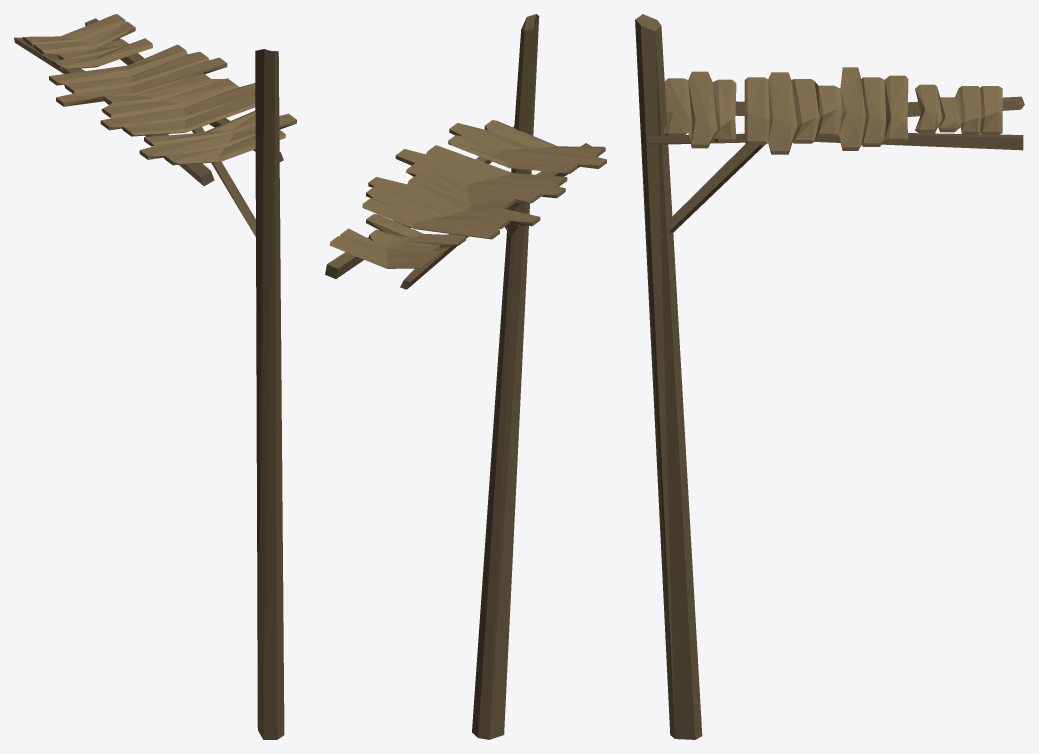
File: SM_Bld_Rickety_Dock_03.glb
3 renders of one model, left to right at view 1: azimuth 30°, elevation 25°; view 2: azimuth 150°, elevation 25°; view 3: azimuth 270°, elevation 25°, orthographic.
Visible parts, largest first — view 1: SM_Bld_Rickety_Dock_03_part00; view 2: SM_Bld_Rickety_Dock_03_part00; view 3: SM_Bld_Rickety_Dock_03_part00.
Boxes of the visible parts, left/top/right/bottom form: SM_Bld_Rickety_Dock_03_part00: left=14, top=14, right=296, bottom=739; SM_Bld_Rickety_Dock_03_part00: left=325, top=14, right=606, bottom=739; SM_Bld_Rickety_Dock_03_part00: left=635, top=14, right=1024, bottom=739.
Bounding box in the file's own units: 2.09 × 8.28 × 4.13.
Materials: 1 (1 with a texture image).
